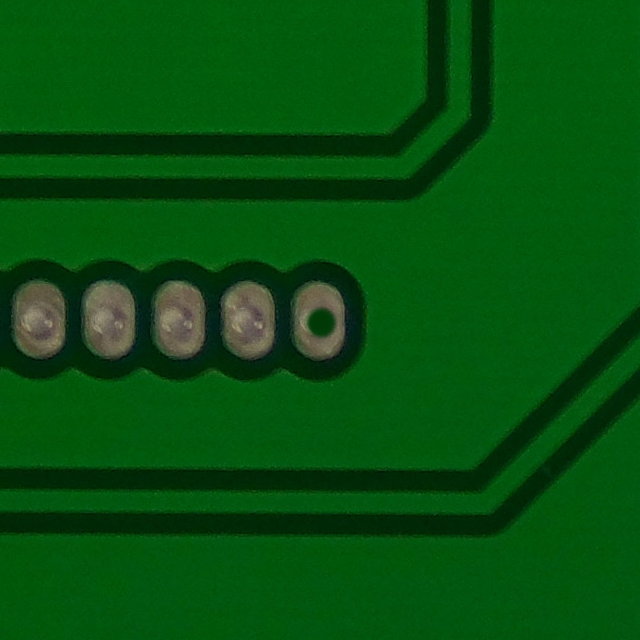missing_hole: (279, 271, 362, 369)
